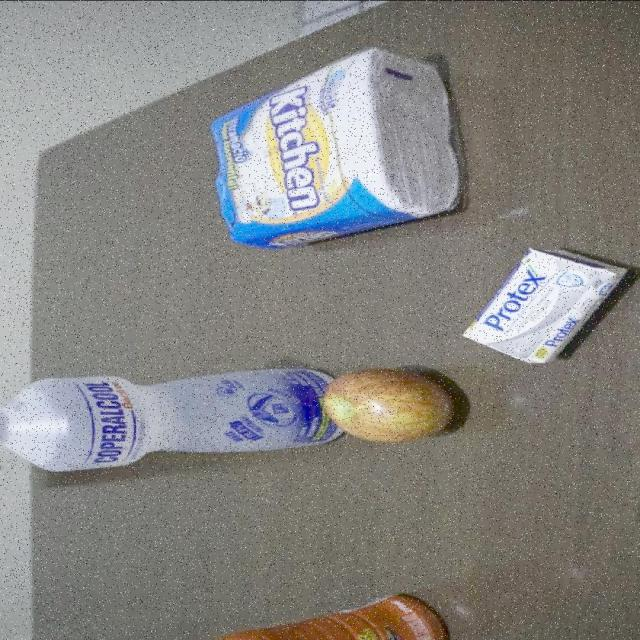AlcoholBottle: (0, 360, 335, 476)
Apple: (317, 361, 451, 450)
ChocolateMilk: (124, 589, 428, 640)
Napkin: (191, 49, 446, 244)
Soap: (446, 250, 619, 363)
